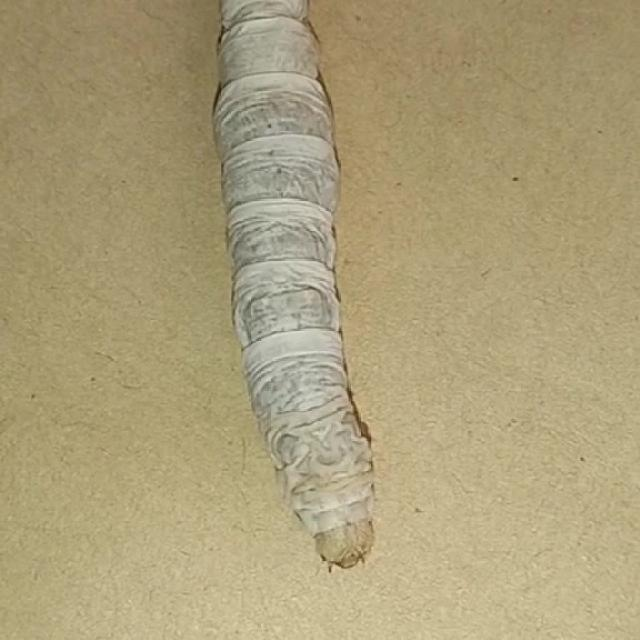Grasserie: (173, 1, 441, 588)
